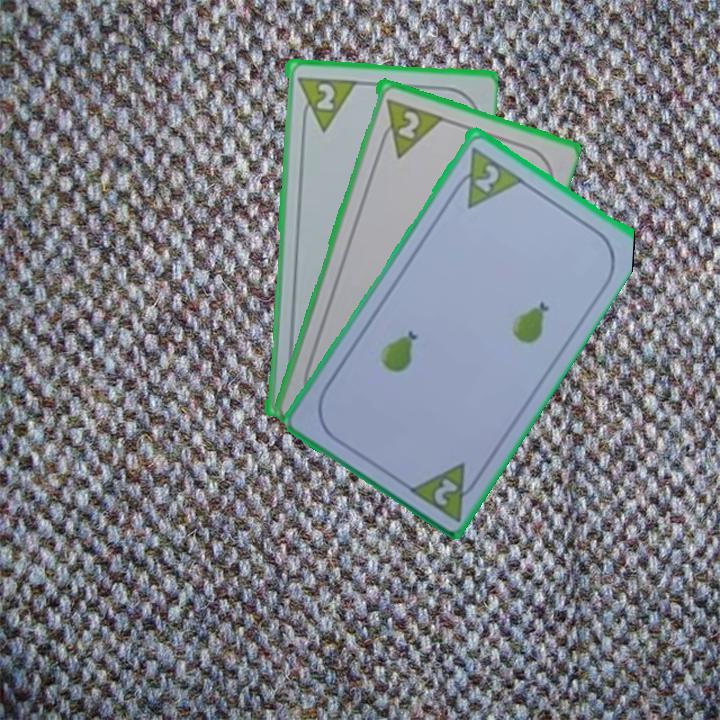2p: (403, 457, 486, 524), (470, 160, 502, 195), (393, 106, 422, 142), (310, 79, 337, 113)
